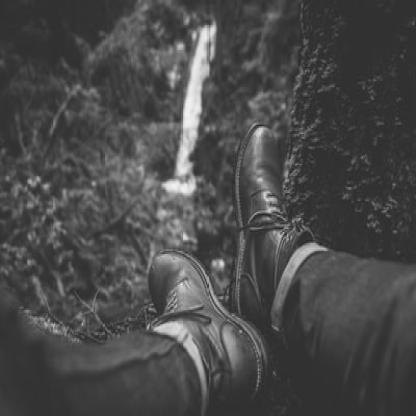ankle: (267, 268, 272, 274), (192, 330, 195, 335)
heel: (228, 388, 232, 394), (241, 312, 244, 319)
left_foot: (149, 253, 235, 399)
pinky: (152, 285, 156, 290), (276, 153, 278, 157)
right_foot: (236, 124, 297, 323)
toe: (165, 257, 169, 264), (256, 136, 259, 141)
